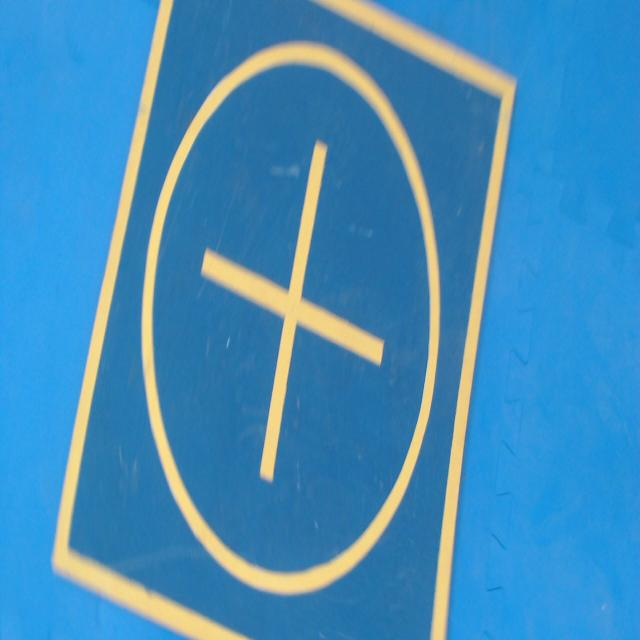base_pouso: (49, 0, 519, 639)
